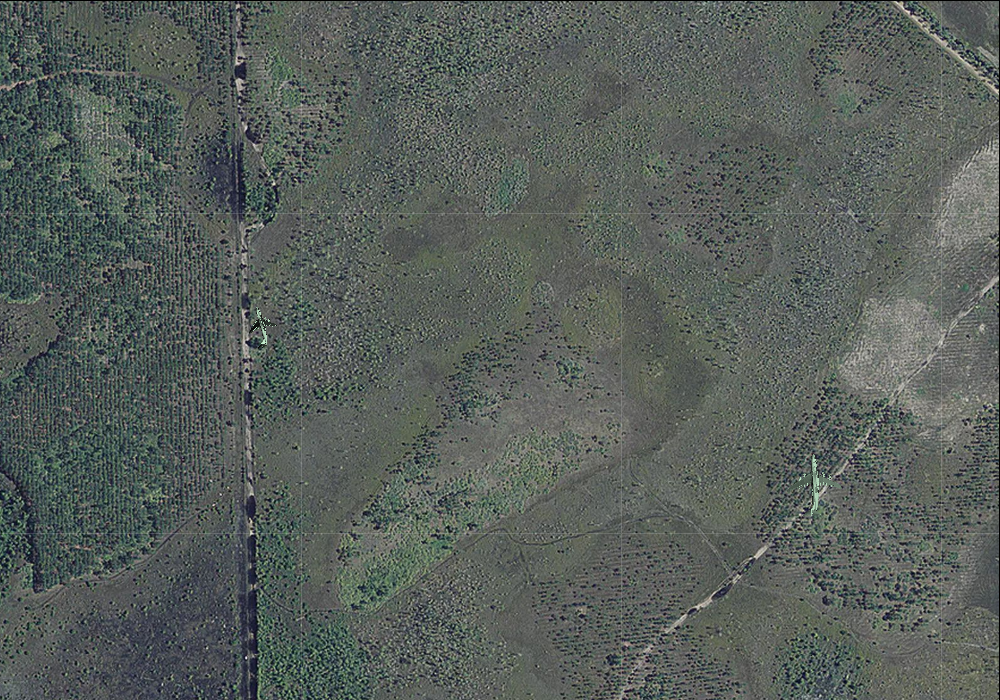plane: (781, 452, 844, 518), (237, 302, 283, 352)
